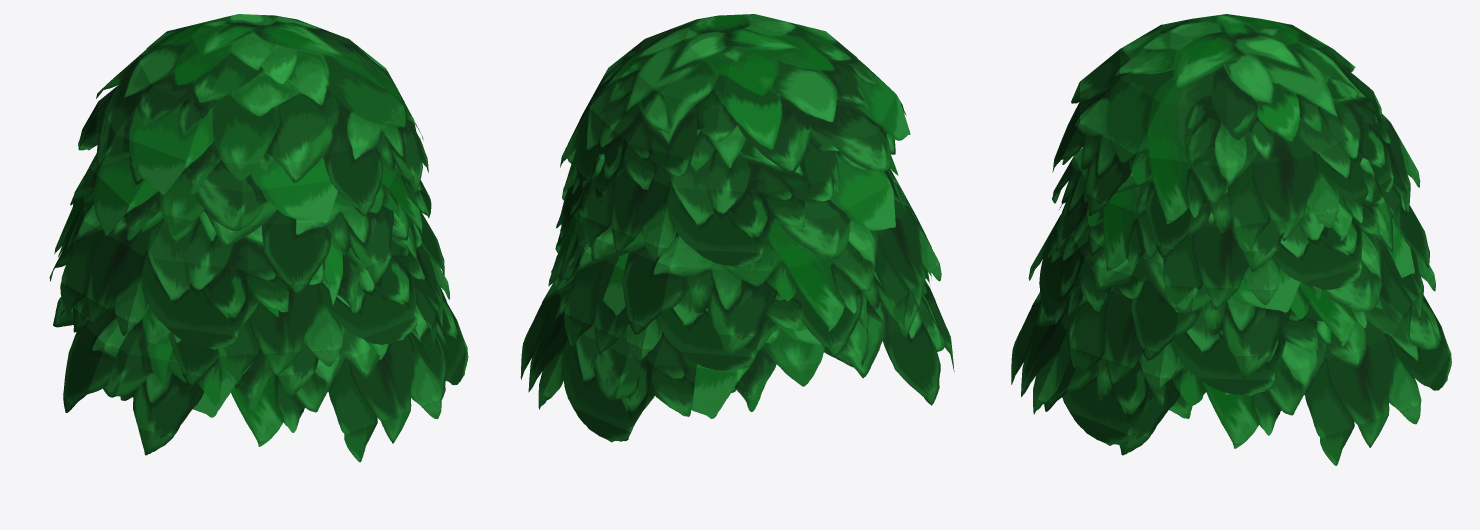
Rendered from Bush.fbx.
3 views of the same model, side by side, from view 1: azimuth 30°, elevation 25°; view 2: azimuth 150°, elevation 25°; view 3: azimuth 270°, elevation 25° (orthographic).
Visible parts, largest first — view 1: pasted__pasted__pasted__pasted__pasted__pasted__pSphere1; view 2: pasted__pasted__pasted__pasted__pasted__pasted__pSphere1; view 3: pasted__pasted__pasted__pasted__pasted__pasted__pSphere1.
Part boxes in pixels (bbox=[...]): pasted__pasted__pasted__pasted__pasted__pasted__pSphere1: bbox=[49, 14, 468, 462]; pasted__pasted__pasted__pasted__pasted__pasted__pSphere1: bbox=[520, 14, 954, 442]; pasted__pasted__pasted__pasted__pasted__pasted__pSphere1: bbox=[1011, 14, 1451, 465].
Bounding box in the file's own units: 2.34 × 2.18 × 2.38.
